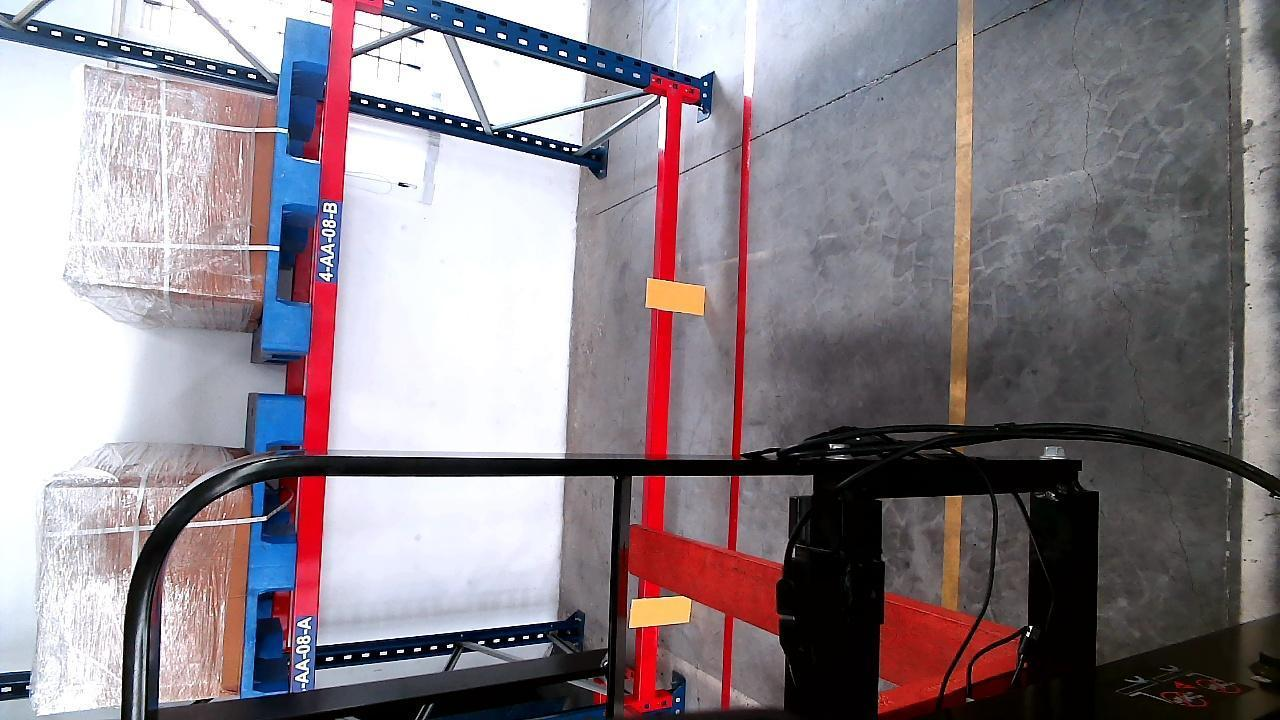h_rack: (290, 4, 358, 690), (643, 96, 681, 714)
orange_strip: (628, 595, 694, 627), (650, 279, 705, 314)
red_line: (723, 42, 756, 716)
small_pallet: (262, 17, 330, 361), (243, 400, 303, 694)
yellow_line: (939, 0, 975, 613)
